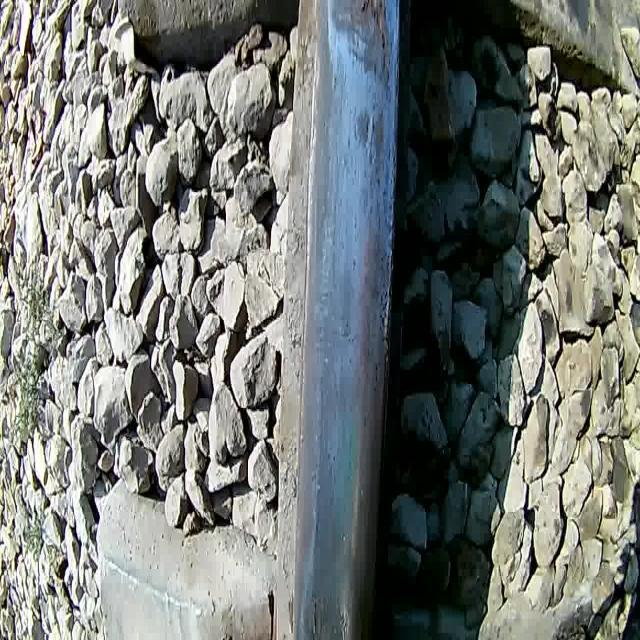Spallings: (358, 0, 392, 79)
Squats: (328, 0, 395, 97), (348, 98, 389, 201), (304, 584, 356, 640)
